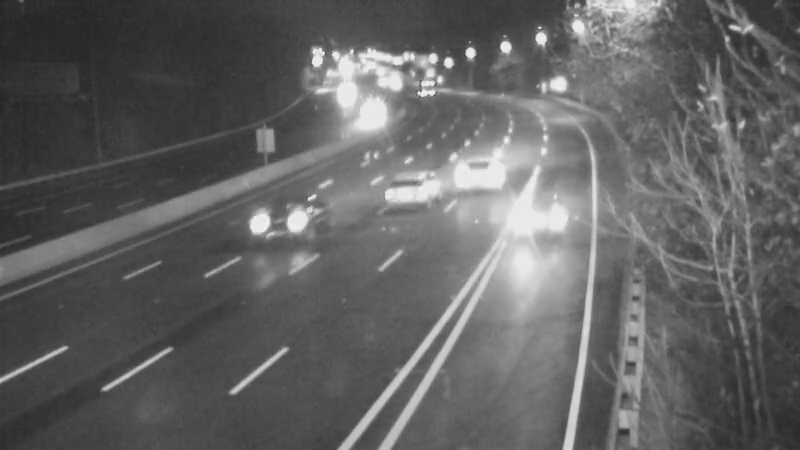vehicle: (449, 122, 529, 202), (501, 171, 581, 251), (371, 156, 451, 236), (239, 182, 319, 262), (399, 69, 449, 119), (339, 94, 389, 144), (320, 64, 370, 114)
